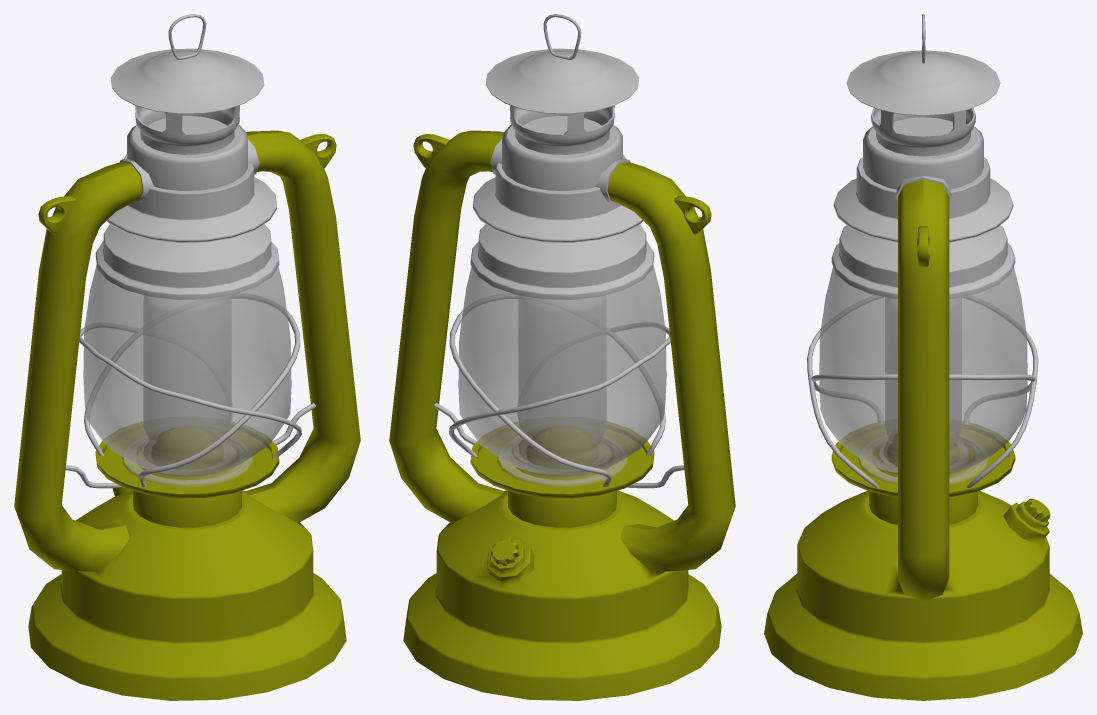
The model's file is Led Lantern.fbx.
3 renders of one model, left to right at view 1: azimuth 30°, elevation 25°; view 2: azimuth 150°, elevation 25°; view 3: azimuth 270°, elevation 25°, orthographic.
Visible parts, largest first — view 1: Led_Lantern; view 2: Led_Lantern; view 3: Led_Lantern.
Boxes of the visible parts, x1,y1,x2,y2 form: Led_Lantern: (14, 14, 360, 700); Led_Lantern: (389, 14, 735, 700); Led_Lantern: (764, 14, 1082, 700).
Size of the model in its own units: 15.83 by 27.61 by 12.94.
